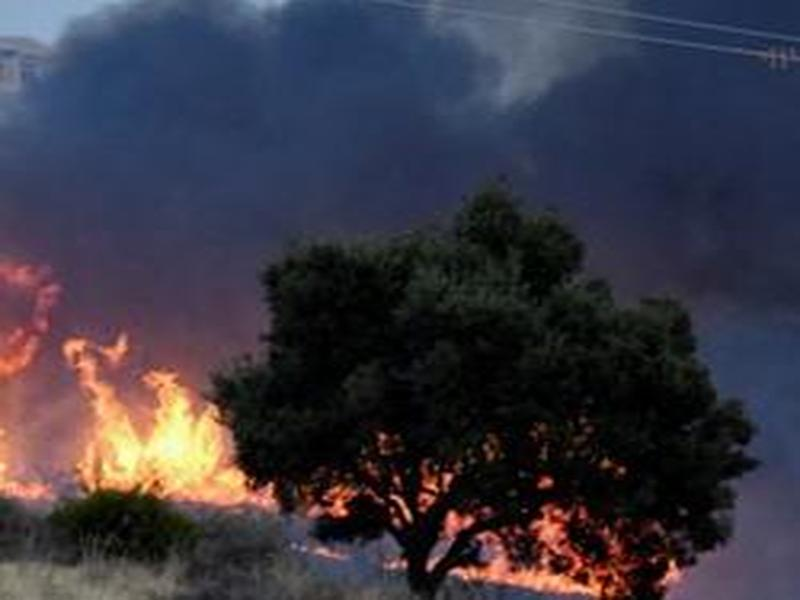FIRE: (44, 318, 665, 600)
